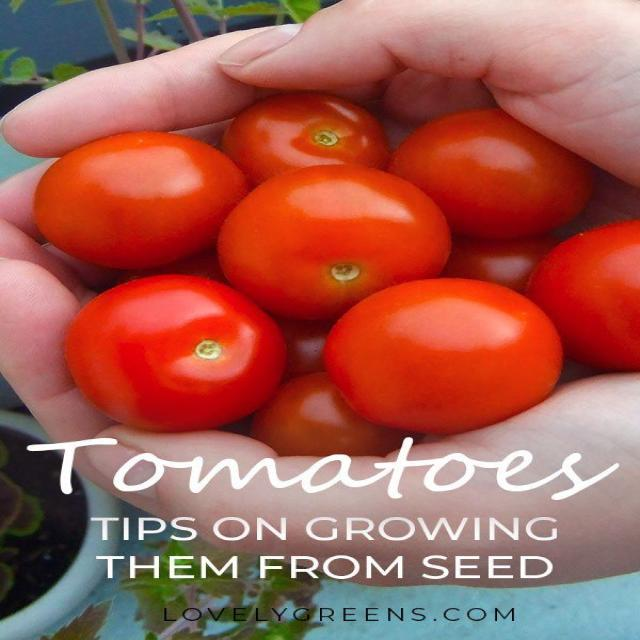level 6: (328, 279, 568, 439), (220, 164, 458, 325), (54, 276, 287, 432), (33, 132, 251, 270), (384, 106, 602, 240), (250, 292, 425, 410), (224, 93, 391, 195), (530, 219, 640, 370), (418, 209, 572, 316), (261, 370, 413, 467)
